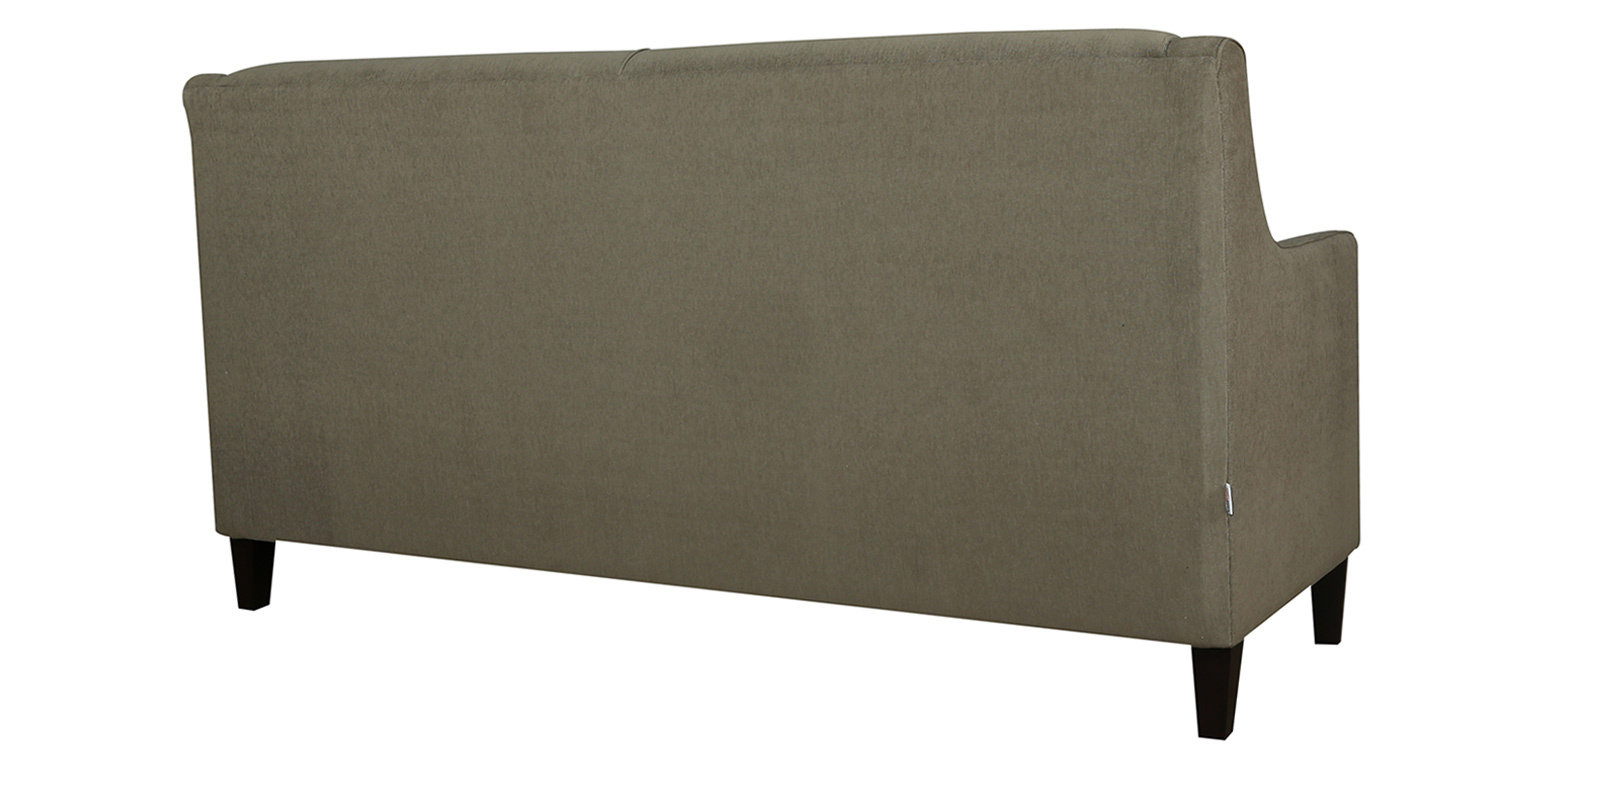Oscar Three Seater Sofa in Sandy Brown Colour by CasaCraft: (177, 24, 1362, 742)
